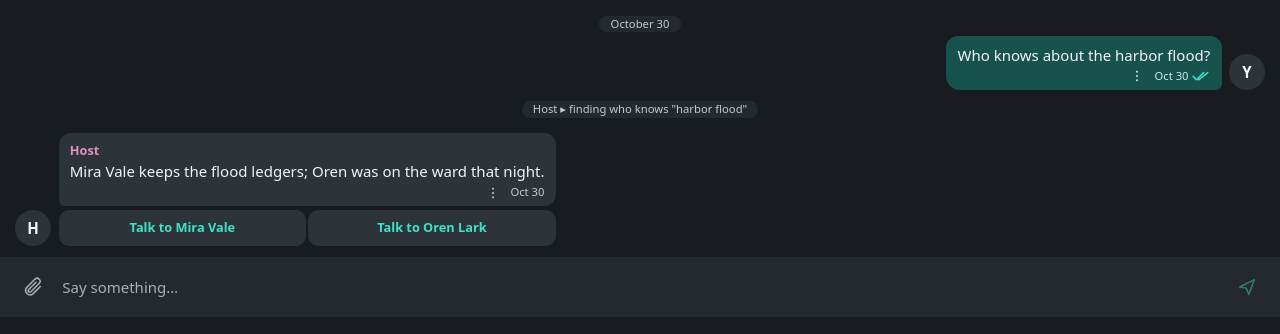
hovering the paperclip lists the kinds that work, and the item opens the picker
The width and height of the screenshot is (1280, 334).
Hover over the button named "Attach" at (33, 287), box [15,269,51,305]
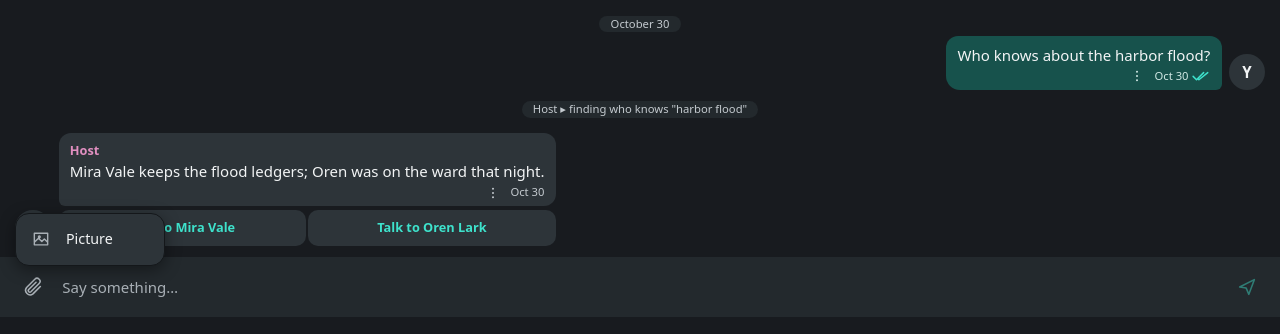
Now the menu items read "Picture", in this order
Click the menu item "Picture" at (90, 239), box [16,217,164,261]
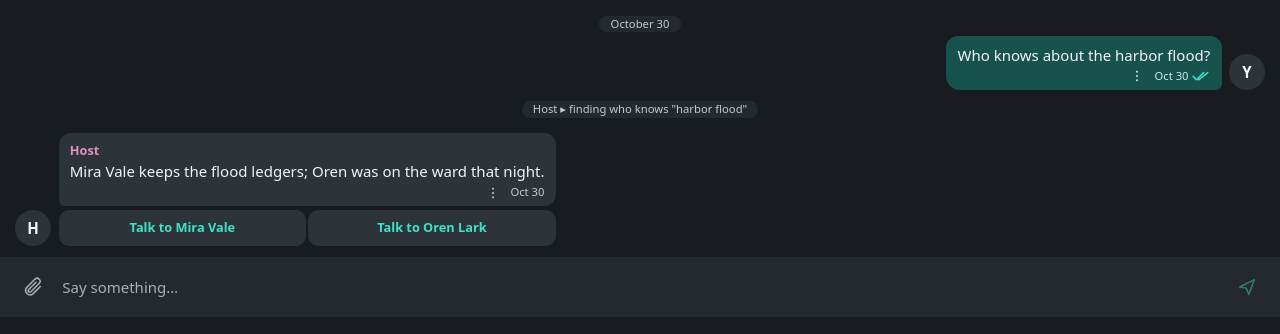
Now the menu "Picture" is gone
